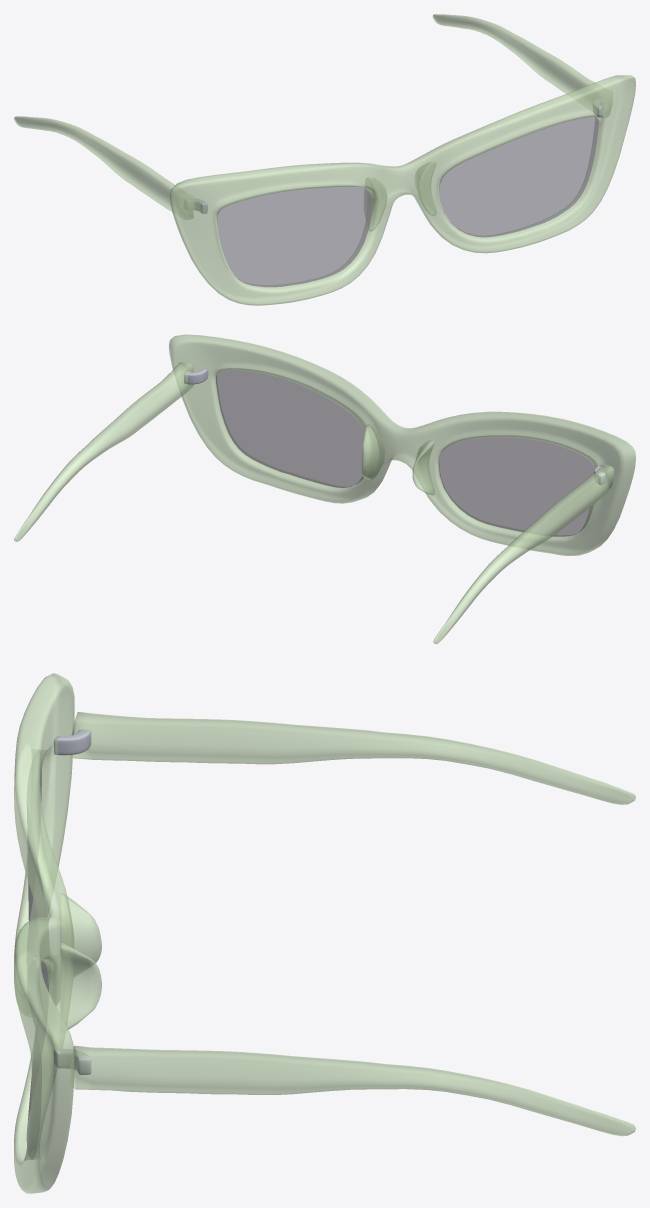
Rendered from mint.glb.
3 views of the same model, one above another, from view 1: azimuth 30°, elevation 25°; view 2: azimuth 150°, elevation 25°; view 3: azimuth 270°, elevation 25° (orthographic). The views are drawn at different scales.
Parts seen in each view (by area): view 1: model_4; view 2: model_4; view 3: model_4.
Part boxes in pixels (<box>): model_4: <box>14,14,635,305</box>; model_4: <box>14,334,635,644</box>; model_4: <box>14,673,635,1193</box>.
Bounding box in the file's own units: 2.23 × 0.6311 × 1.59.
